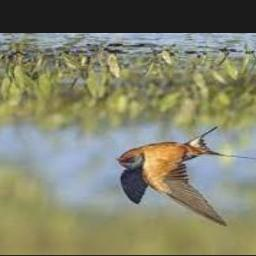Swallow: (116, 126, 256, 226)
